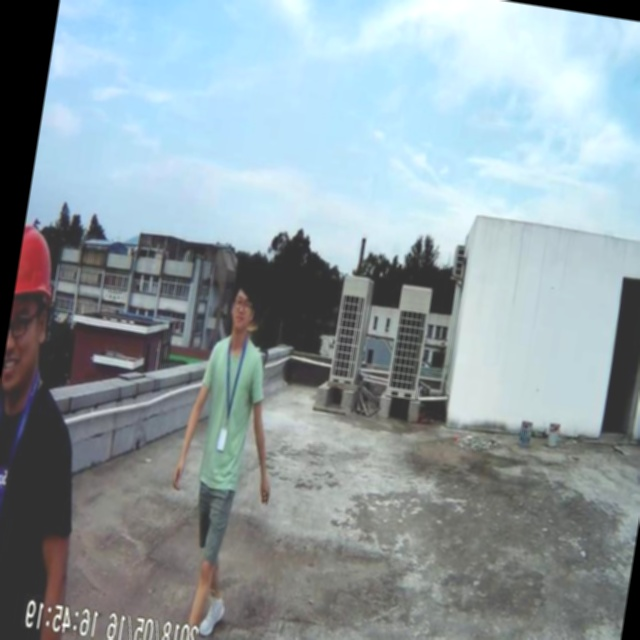Sin_Chaleco: (190, 332, 267, 491)
